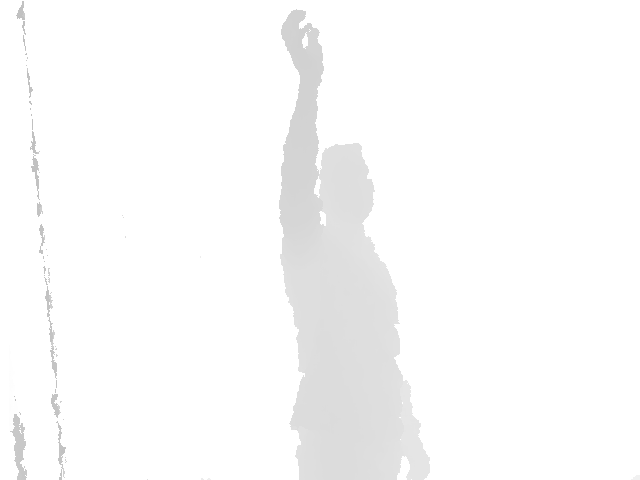hand: (281, 8, 325, 81)
hand_down: (400, 448, 432, 480)
head: (317, 142, 375, 227)
person: (277, 8, 433, 480)
